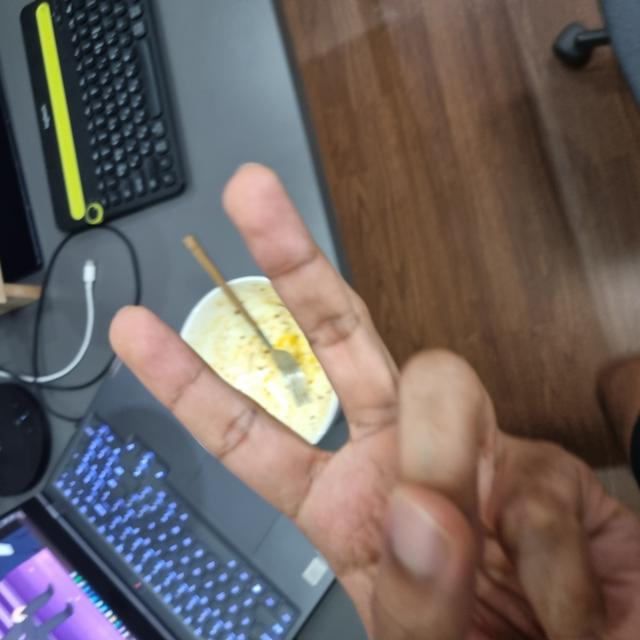Scissors: (1, 113, 472, 640)
